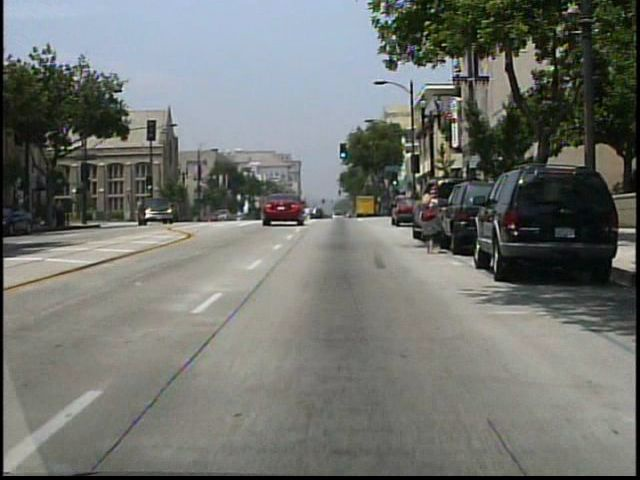person: (414, 182, 449, 256)
